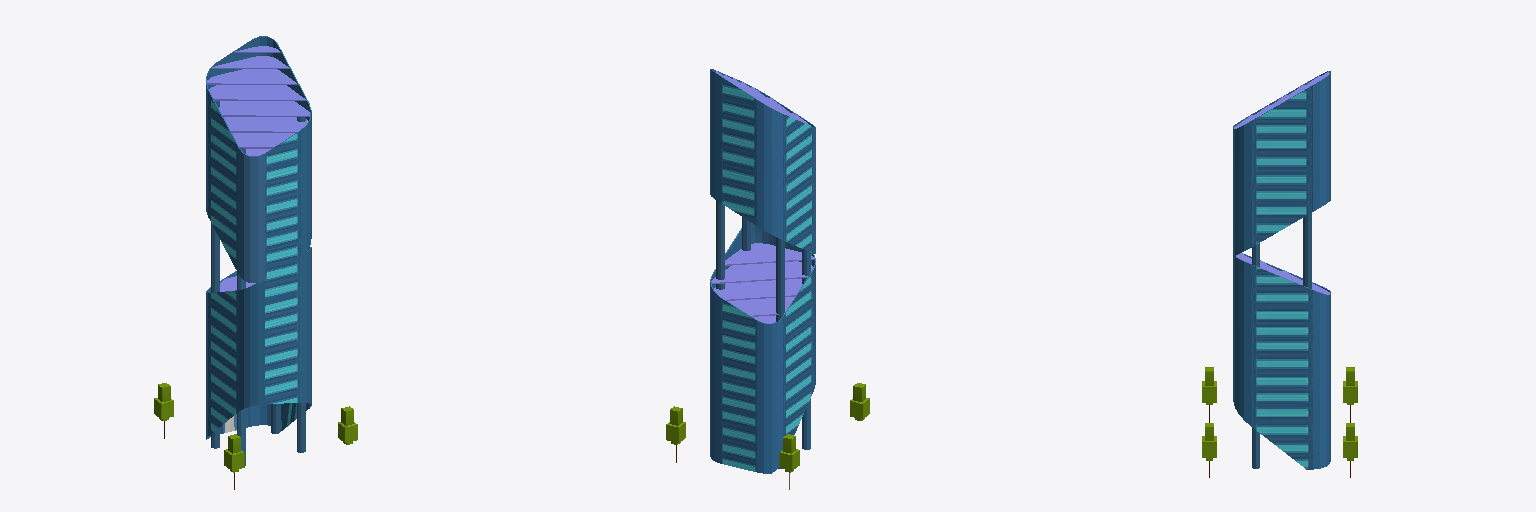
3 renders of one model, left to right at view 1: azimuth 30°, elevation 25°; view 2: azimuth 150°, elevation 25°; view 3: azimuth 270°, elevation 25°, orthographic.
Parts seen in each view (by area): view 1: living_science_2lvl_Mesh.184, Tree_2_3_61.048_Mesh.311, Tree_2_3_61.046_Mesh.309, Tree_2_3_61.049_Mesh.312; view 2: living_science_2lvl_Mesh.184, Tree_2_3_61.046_Mesh.309, Tree_2_3_61.047_Mesh.310, Tree_2_3_61.048_Mesh.311; view 3: living_science_2lvl_Mesh.184.
Boxes of the visible parts, <box> form: living_science_2lvl_Mesh.184: <box>206,36,311,465</box>; Tree_2_3_61.048_Mesh.311: <box>224,434,244,489</box>; Tree_2_3_61.046_Mesh.309: <box>154,383,173,438</box>; Tree_2_3_61.049_Mesh.312: <box>338,406,357,444</box>; living_science_2lvl_Mesh.184: <box>710,69,815,473</box>; Tree_2_3_61.046_Mesh.309: <box>779,434,799,489</box>; Tree_2_3_61.047_Mesh.310: <box>666,406,685,462</box>; Tree_2_3_61.048_Mesh.311: <box>850,383,869,420</box>; living_science_2lvl_Mesh.184: <box>1233,71,1330,469</box>.
Size of the model in its own units: 1.55 by 4.55 by 1.65.
3 materials, 3 textured.